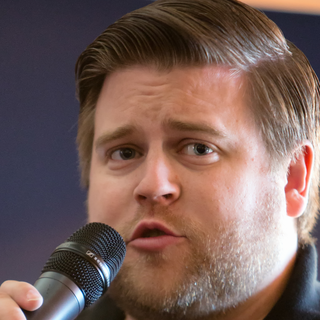eye: (175, 138, 226, 164), (102, 141, 145, 166)
